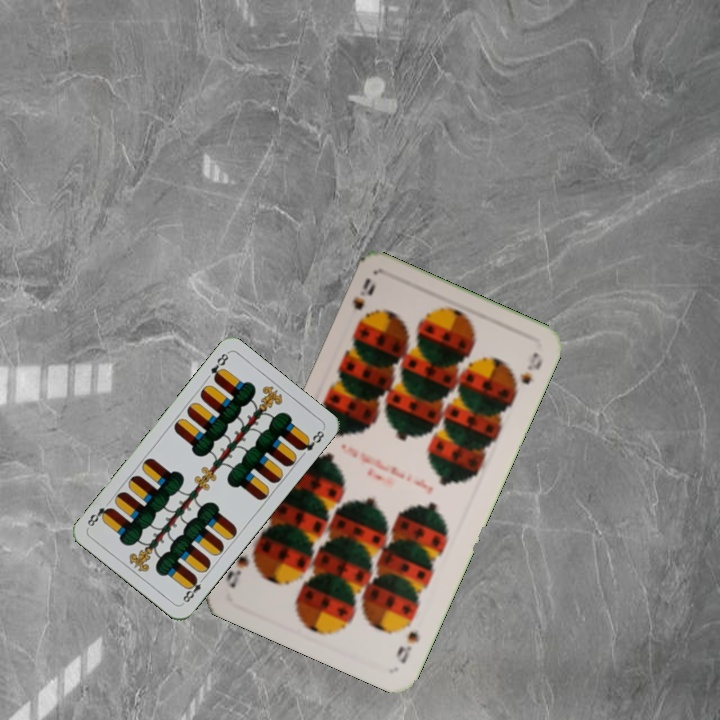E8: (178, 572, 208, 606), (206, 349, 231, 384)
S9: (348, 274, 379, 313), (392, 627, 422, 667)
